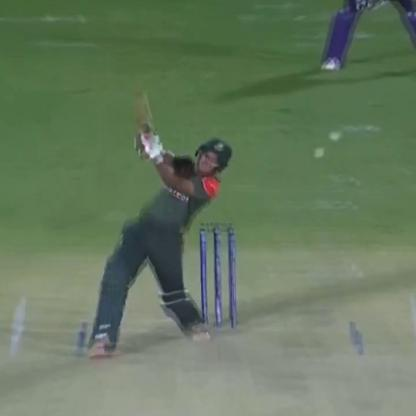ball: (326, 125, 344, 147), (311, 146, 329, 160)
bat: (132, 85, 166, 159)
pitch: (2, 280, 416, 415)
